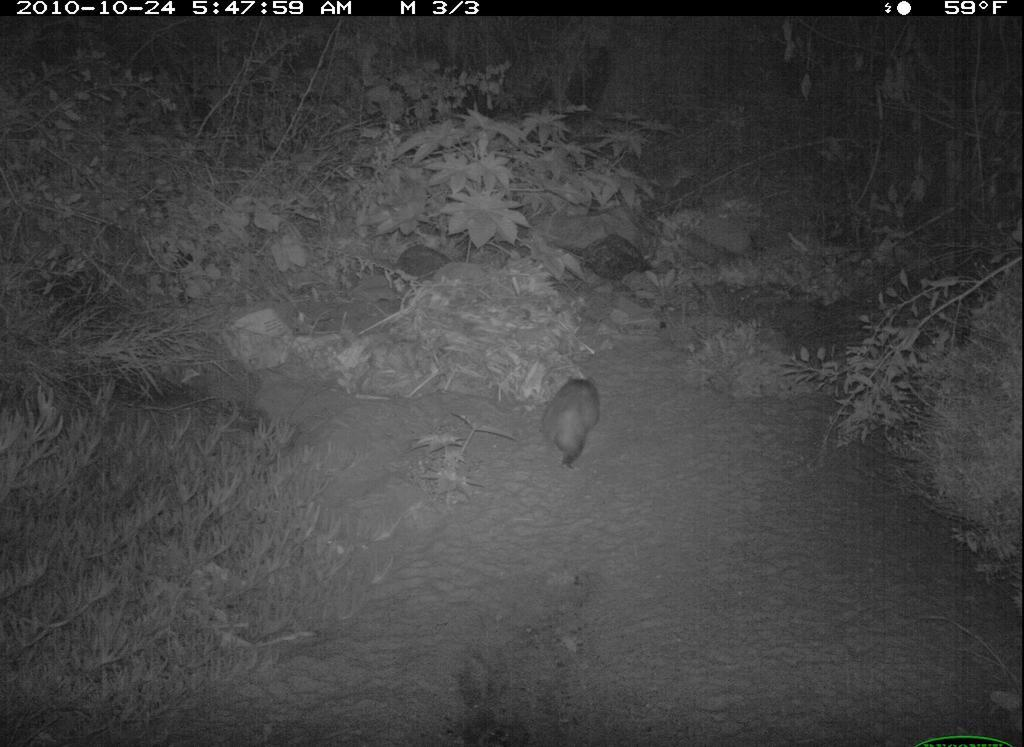opossum: (545, 365, 607, 473)
